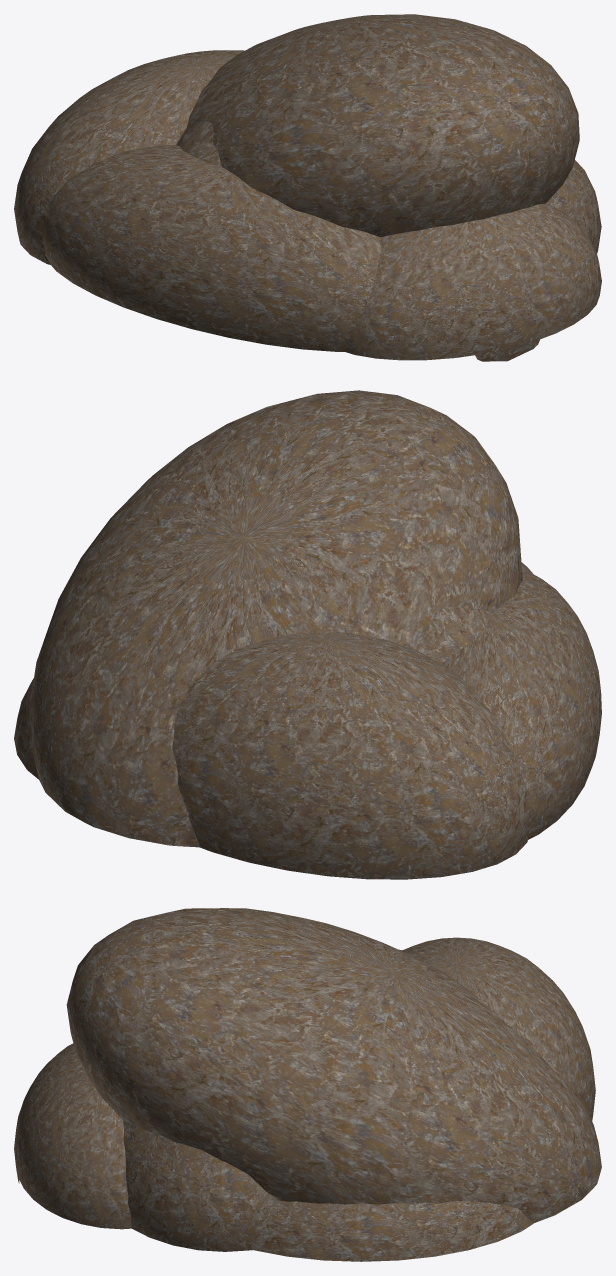
The model's file is Boulder_Rock_1.fbx.
3 renders of one model, top to bottom at view 1: azimuth 30°, elevation 25°; view 2: azimuth 150°, elevation 25°; view 3: azimuth 270°, elevation 25°, orthographic. The views are drawn at different scales.
Visible parts, largest first — view 1: Sphere008; view 2: Sphere008; view 3: Sphere008.
Part boxes in pixels (box(x1,y1,x2,y2)): Sphere008: box(14, 14, 601, 361); Sphere008: box(14, 390, 601, 879); Sphere008: box(14, 908, 601, 1261).
Size of the model in its own units: 2.33 by 1.18 by 2.49.
Materials: 1 (1 with a texture image).
